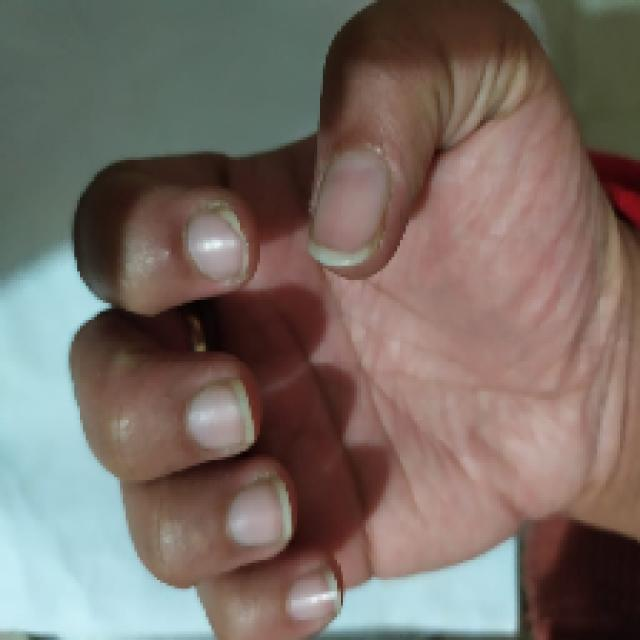Nail: (310, 149, 390, 267), (184, 200, 250, 286), (185, 380, 256, 450), (226, 476, 292, 546), (285, 568, 341, 621)
